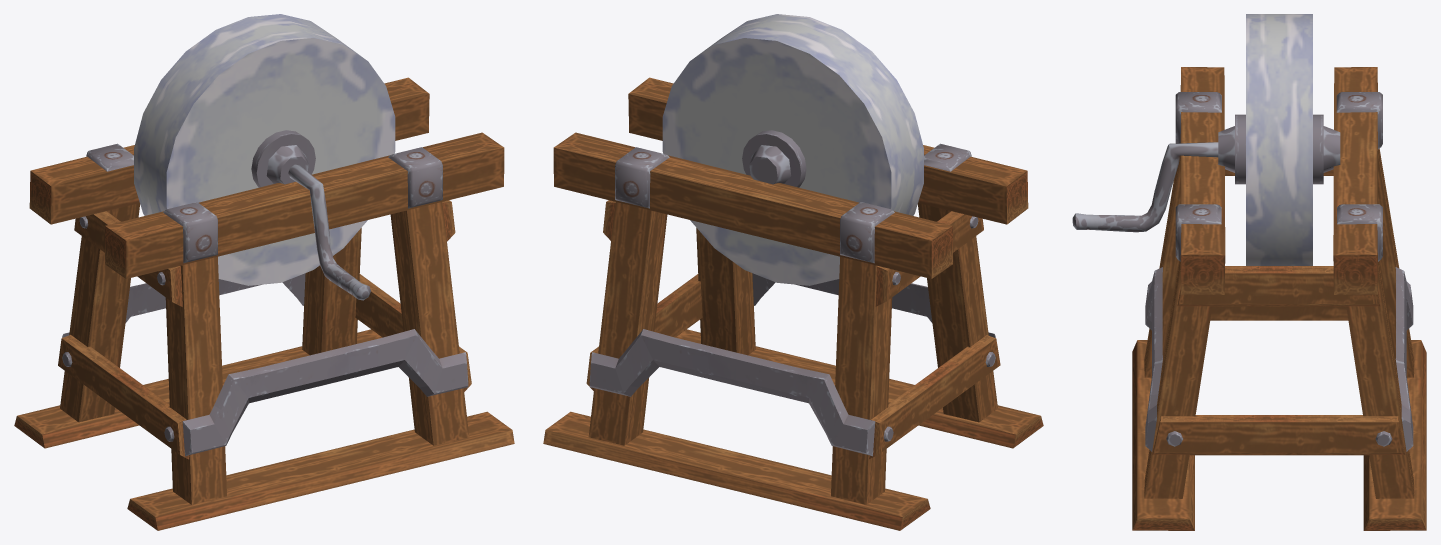
Rendered from Whetstone.fbx.
3 renders of one model, left to right at view 1: azimuth 30°, elevation 25°; view 2: azimuth 150°, elevation 25°; view 3: azimuth 270°, elevation 25°, orthographic. The views are drawn at different scales.
Parts seen in each view (by area): view 1: Whetstone; view 2: Whetstone; view 3: Whetstone.
Boxes of the visible parts, x1,y1,x2,y2 form: Whetstone: [14, 14, 514, 530]; Whetstone: [543, 14, 1043, 530]; Whetstone: [1072, 14, 1426, 530].
Size of the model in its own units: 114 by 117 by 90.18.
